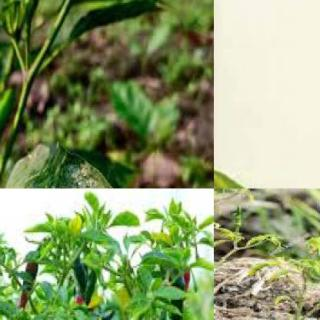green_chilli: (0, 87, 20, 157), (165, 274, 190, 319), (18, 0, 50, 32), (84, 271, 101, 304), (70, 262, 86, 296), (235, 205, 243, 226)
